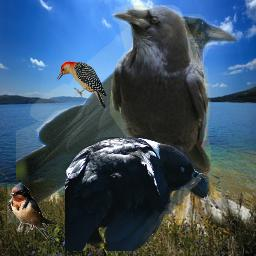Crow: (16, 14, 240, 219), (110, 5, 211, 178), (65, 137, 211, 251)
Swallow: (7, 184, 54, 243)
Woodpecker: (56, 61, 108, 110)
